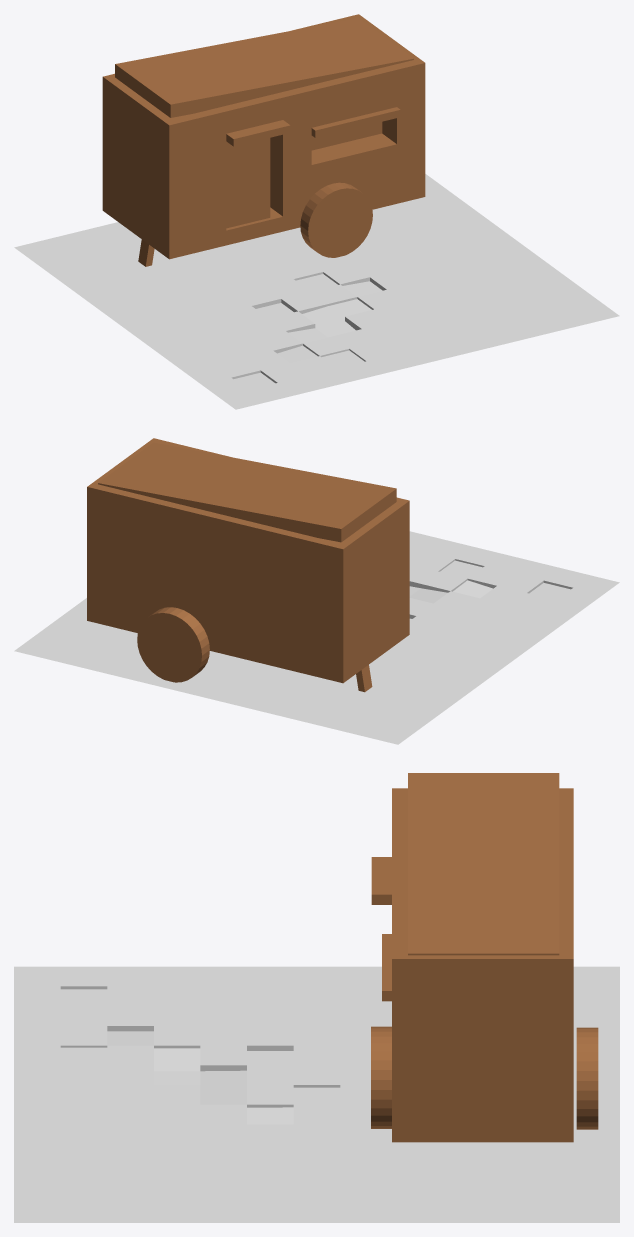
The picture shows the model from 3 angles, top to bottom: view 1: azimuth 30°, elevation 25°; view 2: azimuth 150°, elevation 25°; view 3: azimuth 270°, elevation 25°; orthographic projection. The views are drawn at different scales.
Parts seen in each view (by area): view 1: ground, trailer; view 2: trailer, ground; view 3: ground, trailer.
Part boxes in pixels (box(x1,y1,x2,y2)): ground: box(14, 174, 619, 409); trailer: box(102, 14, 425, 266); trailer: box(87, 438, 409, 692); ground: box(14, 531, 619, 744); ground: box(14, 966, 619, 1222); trailer: box(371, 773, 598, 1142).
Size of the model in its own units: 26.77 by 12.42 by 26.77.
